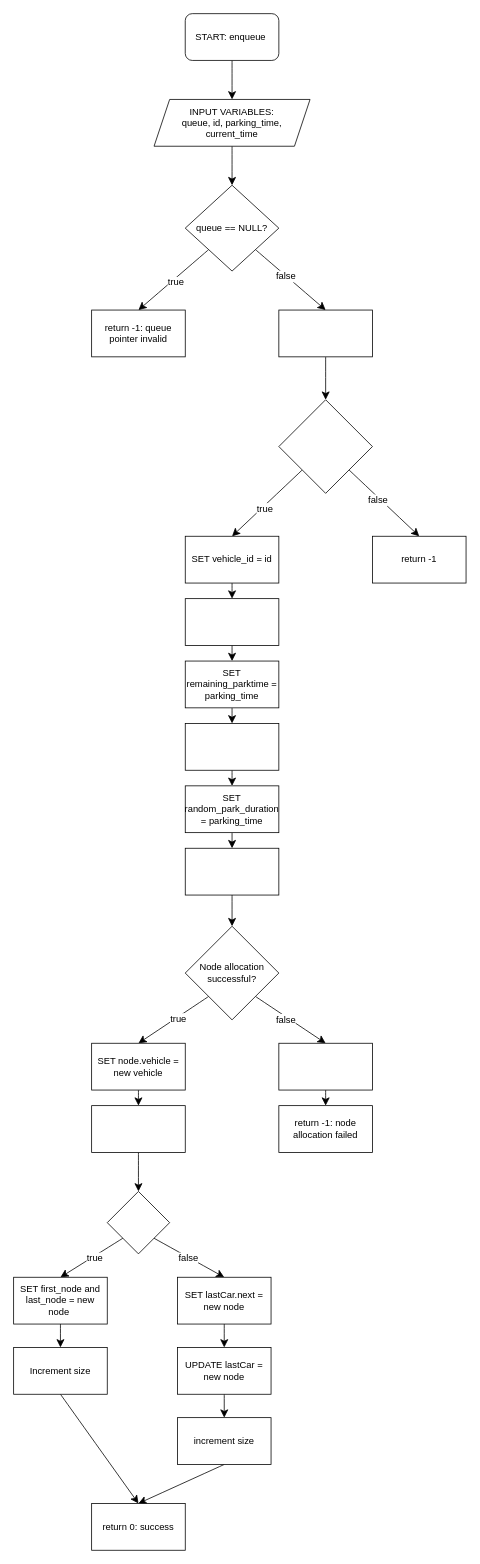
Image size: 480x1564. Some labels were removed from this diagram. The centre of each missing label's shape, as x and y in pixels:
"Allocate memory for new node" belongs at (231,871).
"allocate memory for new vehicle" belongs at (325,333).
"free vehicle memory to avoid leak" belongs at (325,1066).
"Queue is empty?" belongs at (138,1222).
"SET node.next = NULL" belongs at (138,1128).
"SET time_of_arrival = current_time" belongs at (231,746).
"SET time_of_entry = -1" belongs at (231,621).
"vehicle allocation successful?" belongs at (325,446).
